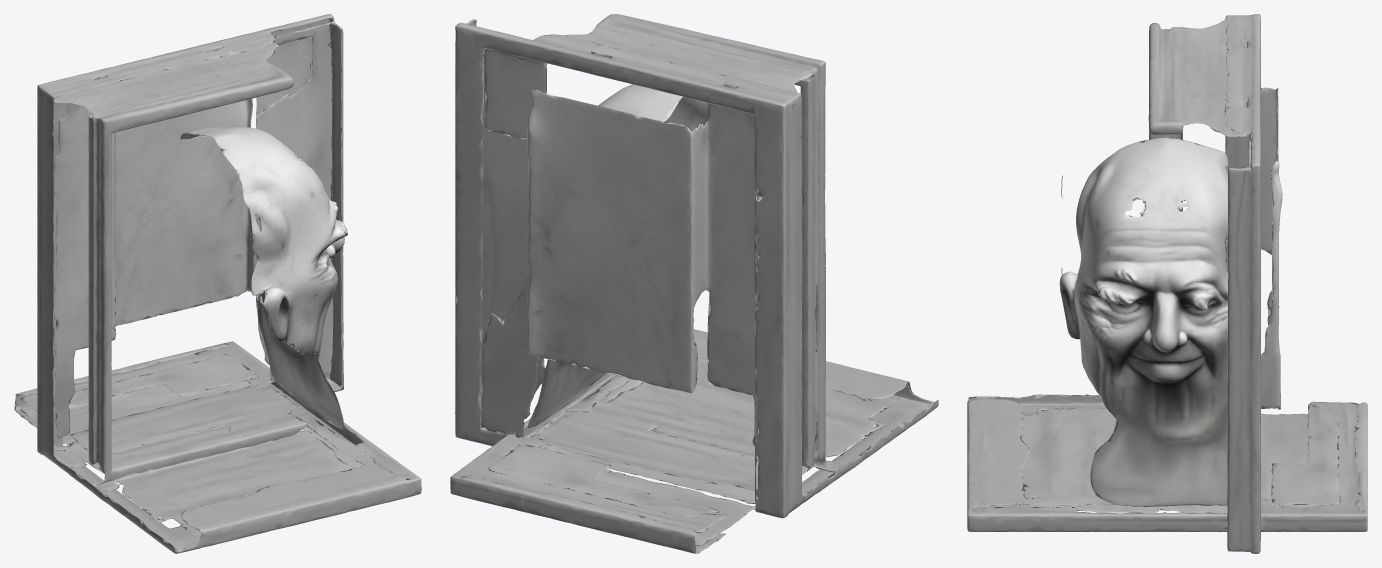
Rendered from crypt_portrait1.glb.
3 renders of one model, left to right at view 1: azimuth 30°, elevation 25°; view 2: azimuth 150°, elevation 25°; view 3: azimuth 270°, elevation 25°, orthographic. The views are drawn at different scales.
Parts seen in each view (by area): view 1: world; view 2: world; view 3: world.
Boxes of the visible parts, bbox=[...] form: world: bbox=[14, 14, 421, 553]; world: bbox=[450, 14, 938, 553]; world: bbox=[967, 14, 1367, 553].
Size of the model in its own units: 0.833 by 1 by 0.9271.
1 material, 1 textured.
